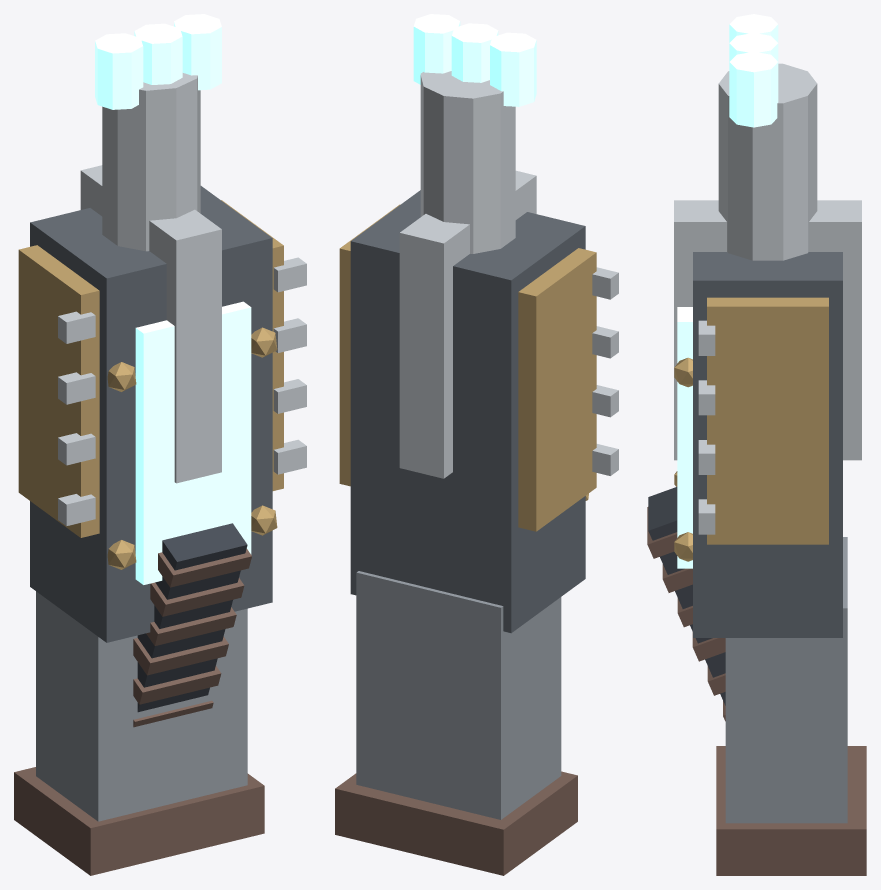
The model's file is pulse_carbine.glb.
3 views of the same model, side by side, from view 1: azimuth 30°, elevation 25°; view 2: azimuth 150°, elevation 25°; view 3: azimuth 270°, elevation 25° (orthographic). The views are drawn at different scales.
Visible parts, largest first — view 1: CarbineReceiver, ShoulderStock, CyanChargeStrip, SideRail_-1, TopCarryRail, StockPad, BurstBarrel, InsulatedGripCore.001, PulsePort_-1, PulsePort_1, PulsePort_0, SideRail_1 (+18 smaller); view 2: CarbineReceiver, ShoulderStock, SideRail_-1, TopCarryRail, BurstBarrel, StockPad, PulsePort_-1, SideRail_1, PulsePort_1, PulsePort_0, RailNotch_-1_1, RailNotch_-1_2 (+2 smaller); view 3: SideRail_1, CarbineReceiver, ShoulderStock, BurstBarrel, TopCarryRail, StockPad, PulsePort_1, CyanChargeStrip, InsulatedGripCore.001, PulsePort_0, PulsePort_-1, RailNotch_1_0 (+8 smaller).
Part boxes in pixels (x1=…): CarbineReceiver: x1=30, y1=186, x2=272, y2=642; ShoulderStock: x1=36, y1=591, x2=247, y2=821; CyanChargeStrip: x1=135, y1=301, x2=251, y2=584; SideRail_-1: x1=18, y1=245, x2=99, y2=537; TopCarryRail: x1=80, y1=165, x2=221, y2=483; StockPad: x1=14, y1=767, x2=264, y2=875; BurstBarrel: x1=102, y1=73, x2=200, y2=251; InsulatedGripCore.001: x1=137, y1=523, x2=247, y2=712; PulsePort_-1: x1=95, y1=33, x2=143, y2=109; PulsePort_1: x1=174, y1=14, x2=221, y2=90; PulsePort_0: x1=134, y1=23, x2=182, y2=84; SideRail_1: x1=221, y1=200, x2=283, y2=490; CarbineReceiver: x1=350, y1=190, x2=585, y2=633; ShoulderStock: x1=356, y1=571, x2=561, y2=819; SideRail_-1: x1=518, y1=248, x2=596, y2=531; TopCarryRail: x1=399, y1=170, x2=536, y2=478; BurstBarrel: x1=420, y1=71, x2=515, y2=253; StockPad: x1=335, y1=771, x2=577, y2=875; PulsePort_-1: x1=490, y1=32, x2=536, y2=106; SideRail_1: x1=339, y1=204, x2=400, y2=486; PulsePort_1: x1=413, y1=14, x2=460, y2=84; PulsePort_0: x1=451, y1=23, x2=498, y2=82; RailNotch_-1_1: x1=592, y1=385, x2=618, y2=417; RailNotch_-1_2: x1=592, y1=326, x2=618, y2=358; SideRail_1: x1=707, y1=297, x2=828, y2=544; CarbineReceiver: x1=693, y1=252, x2=842, y2=637; ShoulderStock: x1=725, y1=537, x2=847, y2=823; BurstBarrel: x1=718, y1=63, x2=817, y2=260; TopCarryRail: x1=674, y1=200, x2=861, y2=460; StockPad: x1=716, y1=746, x2=866, y2=875; PulsePort_1: x1=729, y1=52, x2=778, y2=127; CyanChargeStrip: x1=677, y1=307, x2=692, y2=568; InsulatedGripCore.001: x1=648, y1=487, x2=725, y2=705; PulsePort_0: x1=729, y1=33, x2=778, y2=61; PulsePort_-1: x1=729, y1=14, x2=778, y2=42; RailNotch_1_0: x1=698, y1=499, x2=715, y2=534.
Size of the model in its own units: 0.58 by 1.86 by 0.4668.
